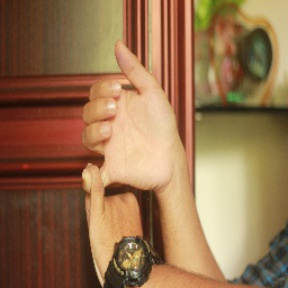S: (67, 40, 179, 278)
